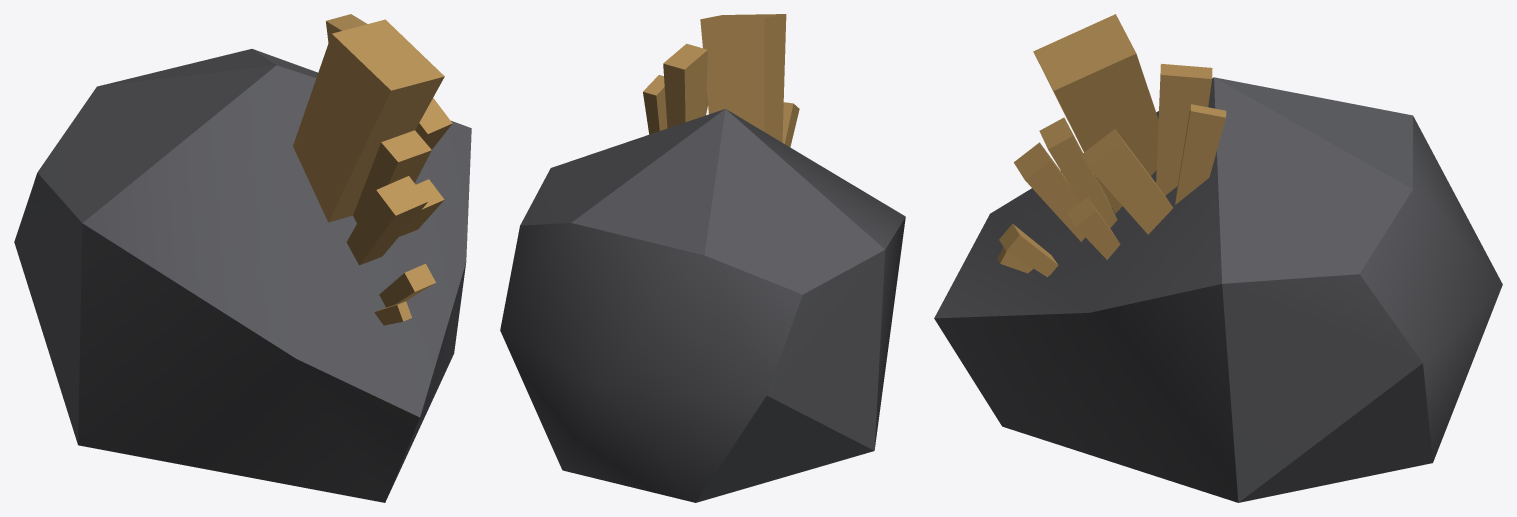
Rendered from hallie_ores_topaz_NEW.fbx.
3 renders of one model, left to right at view 1: azimuth 30°, elevation 25°; view 2: azimuth 150°, elevation 25°; view 3: azimuth 270°, elevation 25°, orthographic. The views are drawn at different scales.
Visible parts, largest first — view 1: m_oreRock1, m_topazGem, m_topazGem3, m_topazGem2, m_topazGem7, m_topazGem6, m_topazGem4, m_topazGem8, m_topazGem1; view 2: m_oreRock1, m_topazGem, m_topazGem1, m_topazGem5, m_topazGem3; view 3: m_oreRock1, m_topazGem, m_topazGem1, m_topazGem6, m_topazGem5, m_topazGem2, m_topazGem3, m_topazGem4, m_topazGem7.
Boxes of the visible parts, <box> form: m_oreRock1: <box>14,49,471,502</box>; m_topazGem: <box>293,19,444,222</box>; m_topazGem3: <box>346,176,428,265</box>; m_topazGem2: <box>353,130,431,223</box>; m_topazGem7: <box>379,263,435,307</box>; m_topazGem6: <box>415,98,452,149</box>; m_topazGem4: <box>399,179,444,236</box>; m_topazGem8: <box>374,301,411,325</box>; m_topazGem1: <box>326,14,367,42</box>; m_oreRock1: <box>500,109,905,502</box>; m_topazGem: <box>700,14,786,142</box>; m_topazGem1: <box>663,43,707,128</box>; m_topazGem5: <box>643,75,667,134</box>; m_topazGem3: <box>782,102,799,146</box>; m_oreRock1: <box>934,77,1502,502</box>; m_topazGem: <box>1033,14,1158,213</box>; m_topazGem1: <box>1156,63,1212,195</box>; m_topazGem6: <box>1081,129,1172,234</box>; m_topazGem5: <box>1175,104,1226,204</box>; m_topazGem2: <box>1039,117,1117,227</box>; m_topazGem3: <box>1014,142,1085,241</box>; m_topazGem4: <box>1067,197,1120,259</box>; m_topazGem7: <box>999,223,1058,277</box>.
Size of the model in its own units: 0.7017 by 0.7326 by 0.9102.
